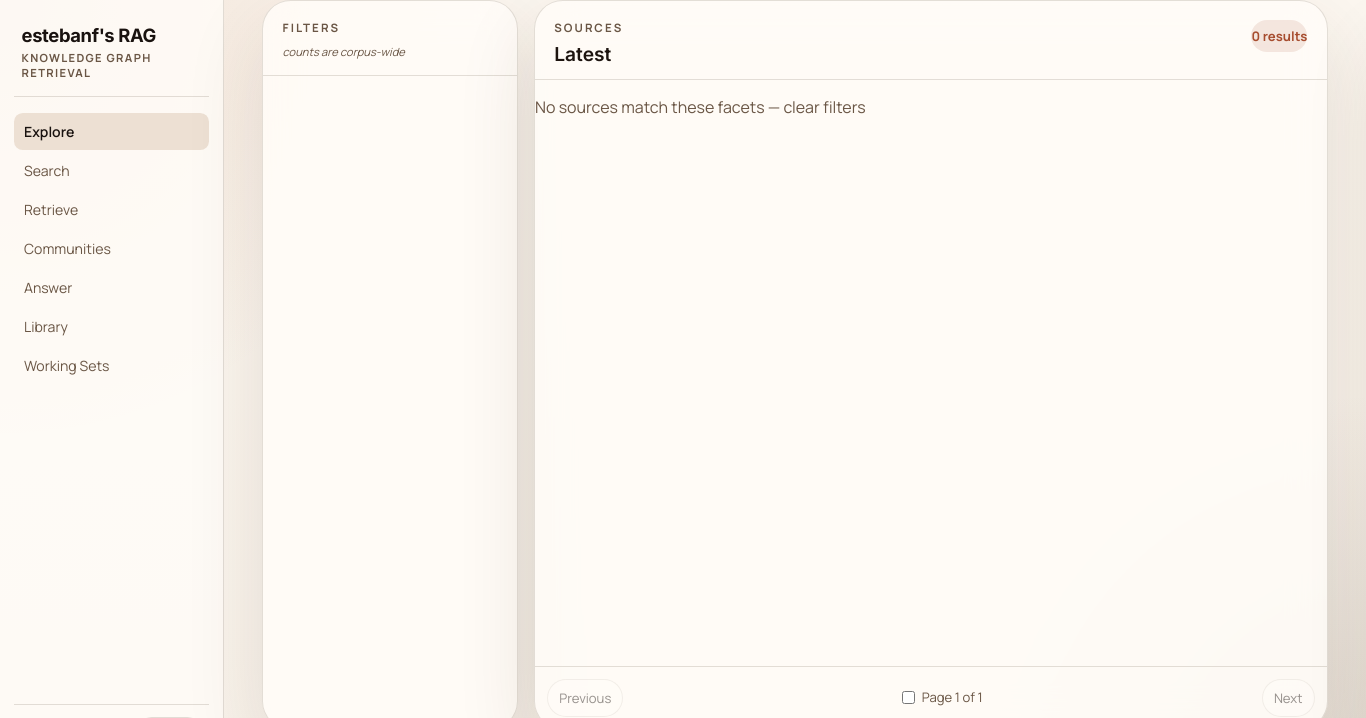
App › retrieve defaults the entity confidence threshold to 0.2 and sends it
Click the button "Retrieve" at (112, 209), box left=14, top=191, right=209, bottom=228
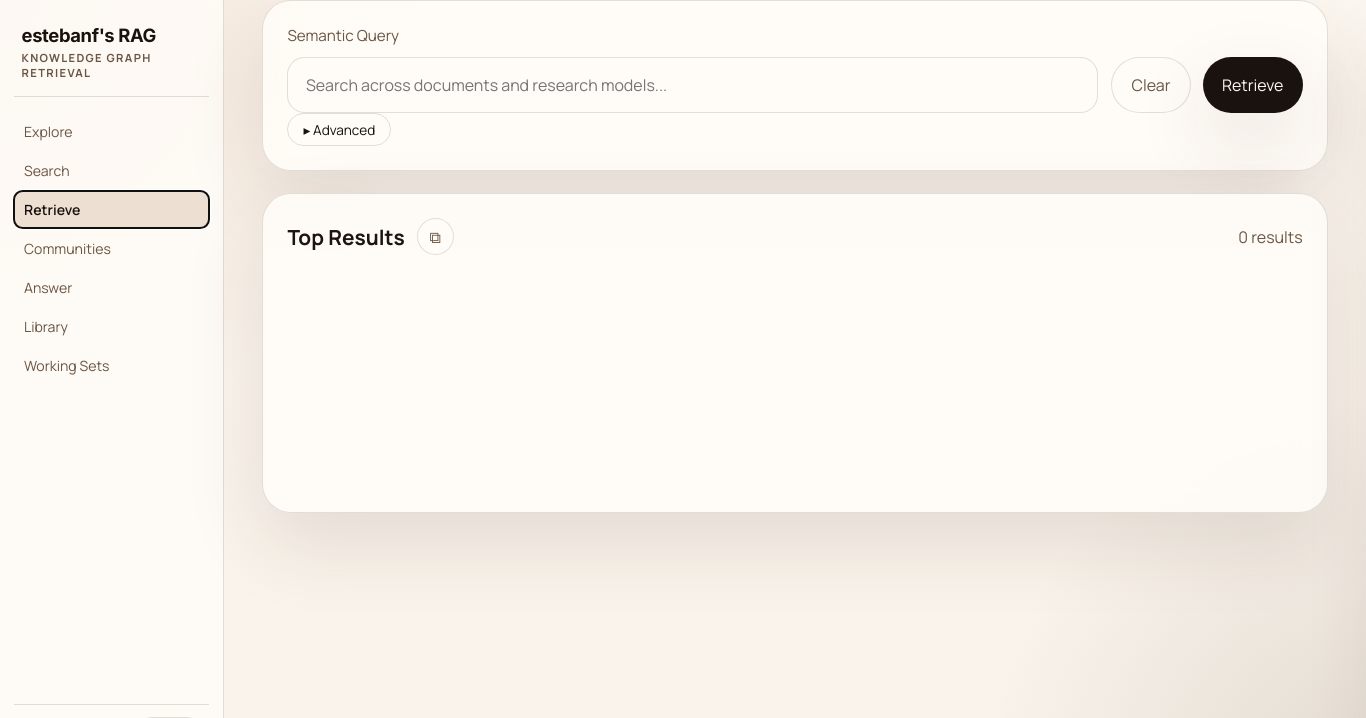
Click the button "▸ Advanced" at (339, 130), box left=287, top=113, right=391, bottom=146
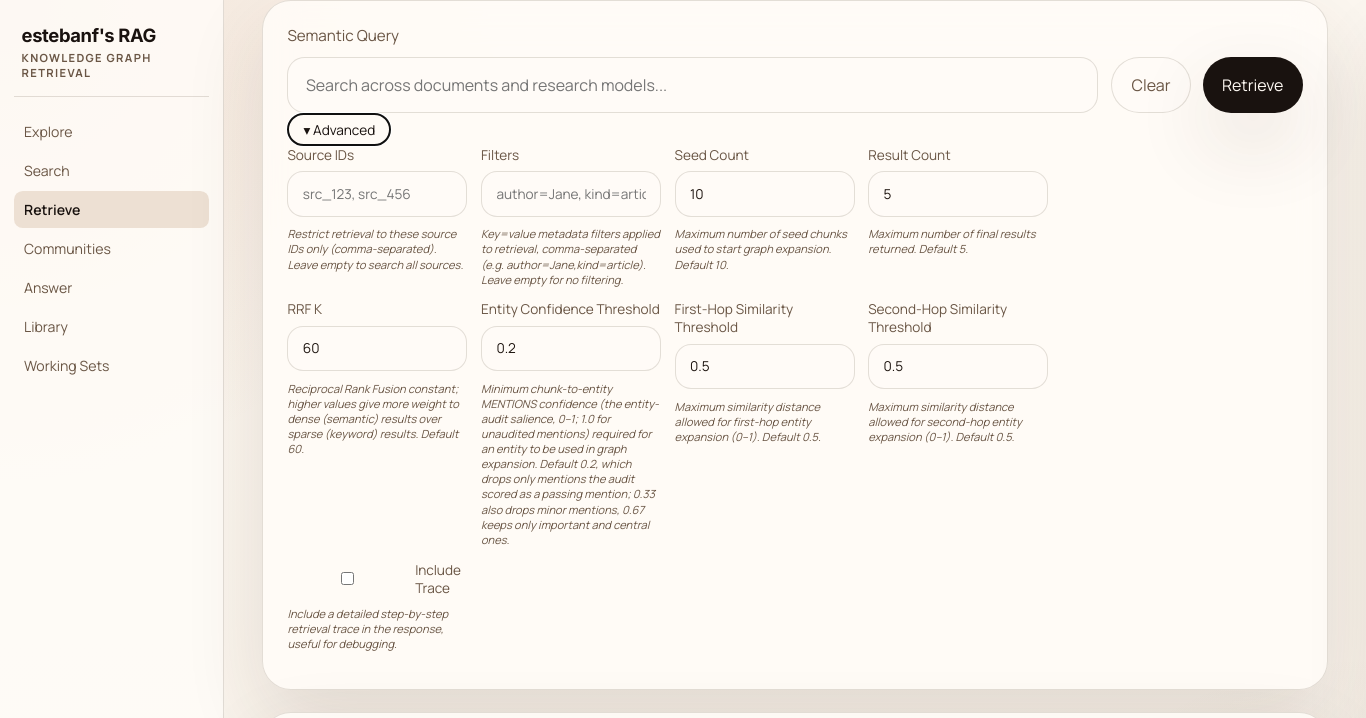
Expected: the number field labelled "Entity Confidence Threshold" holds "0.2", left=481, top=326, right=661, bottom=371
Type "economics of agents" into the field labelled "Semantic Query" at (693, 85), box left=287, top=57, right=1098, bottom=113
Then press Enter
(page scrolled)
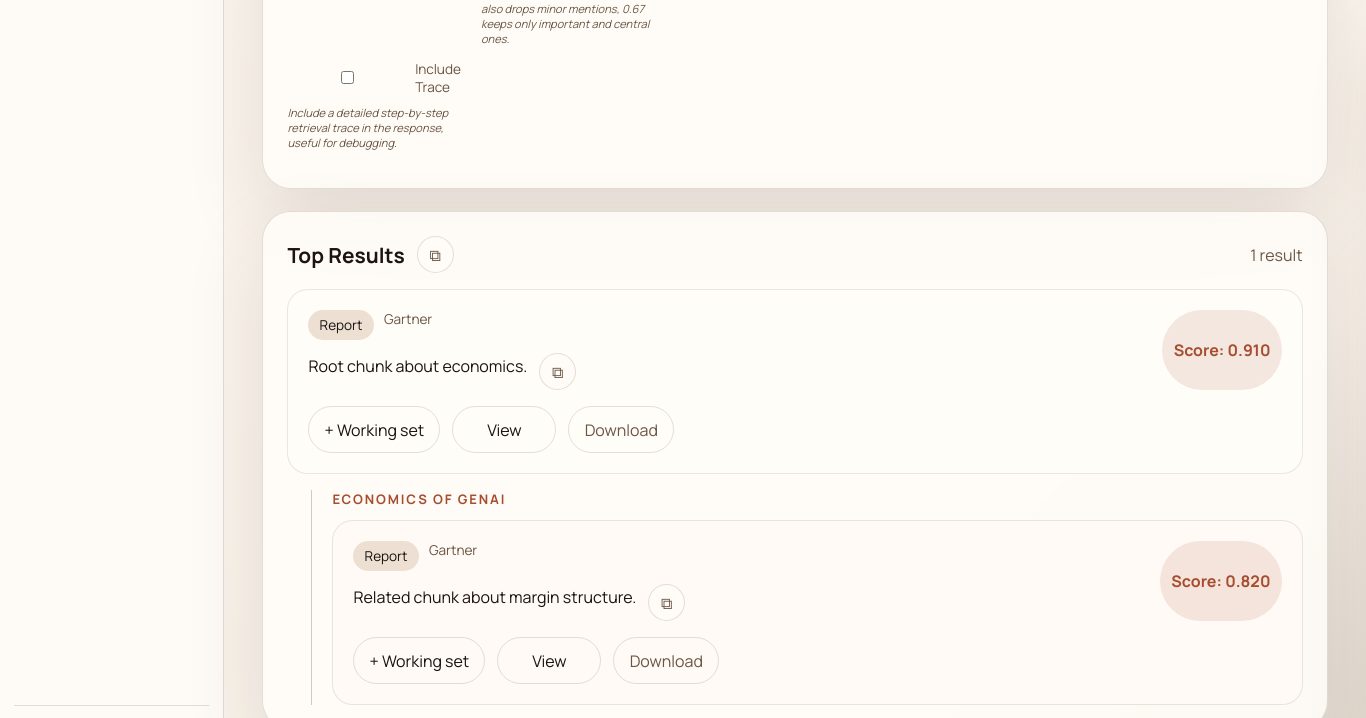
Expected: the text "Economics of GenAI" is shown, left=332, top=490, right=506, bottom=508
